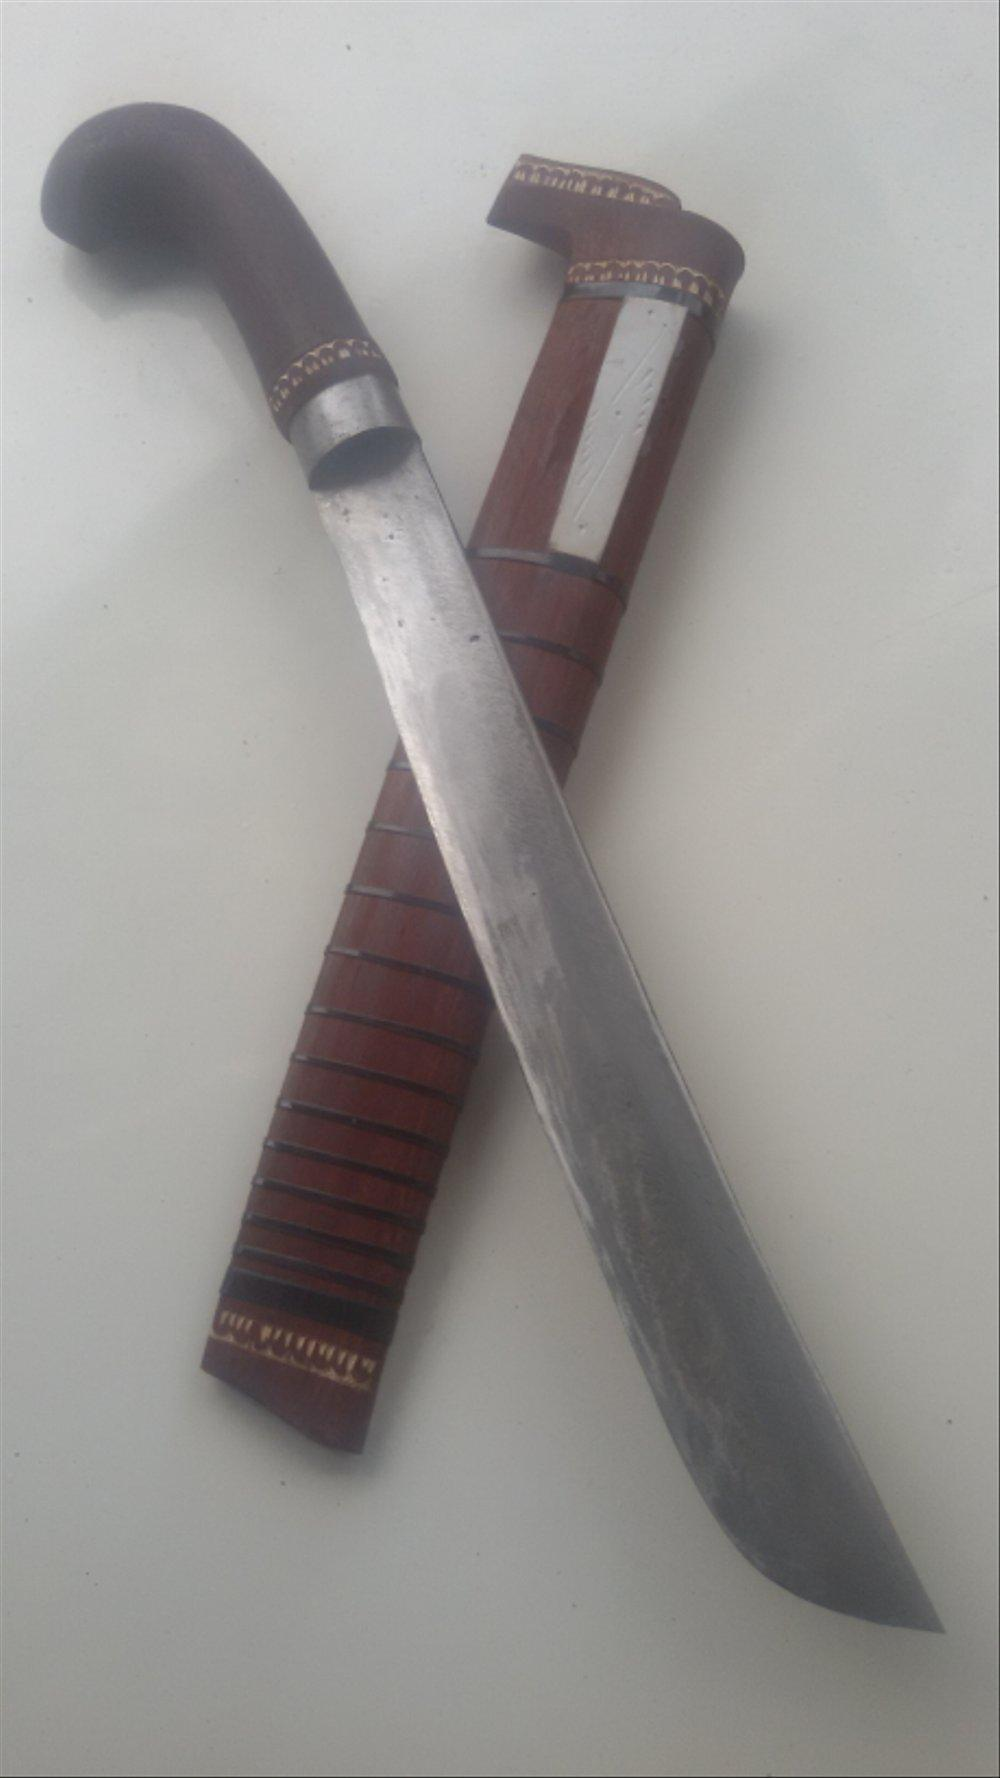facao: (40, 104, 939, 1631)
